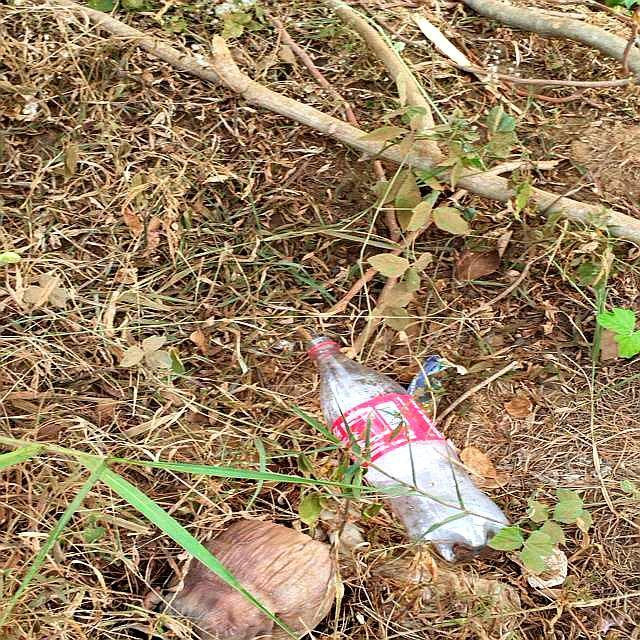Non-biodegradable: (303, 333, 516, 566)
